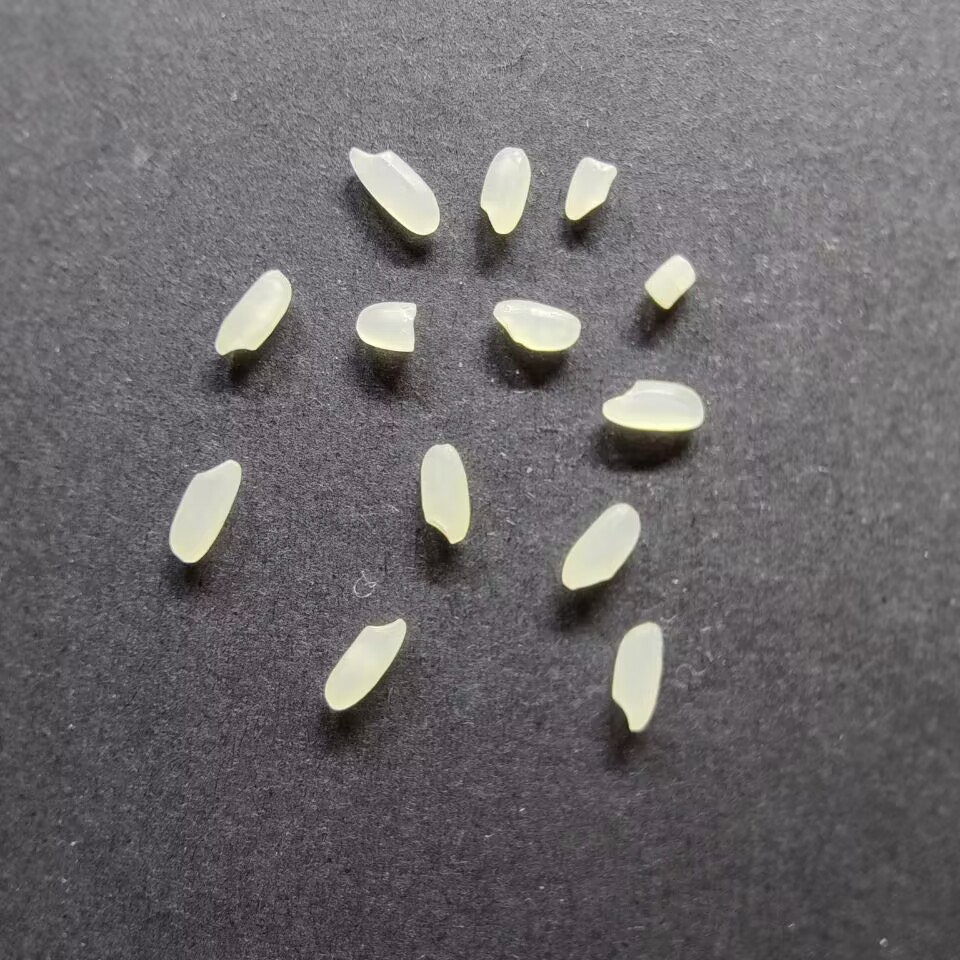broken: (563, 155, 618, 223), (354, 300, 420, 353), (642, 253, 698, 312)
rice: (346, 145, 442, 237), (166, 457, 242, 565), (322, 617, 408, 712), (559, 501, 641, 591), (212, 268, 294, 356), (608, 620, 664, 732), (418, 443, 473, 548), (600, 378, 705, 433), (476, 146, 532, 235), (491, 298, 582, 352)
